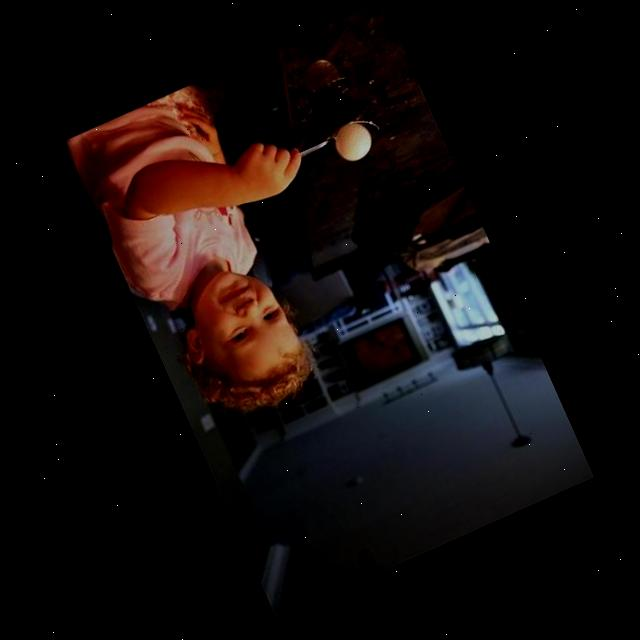ping-pong-ball: (328, 116, 378, 166)
